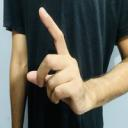hand: (26, 5, 86, 115)
